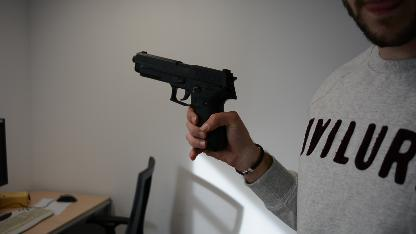pistol: (132, 50, 238, 152)
